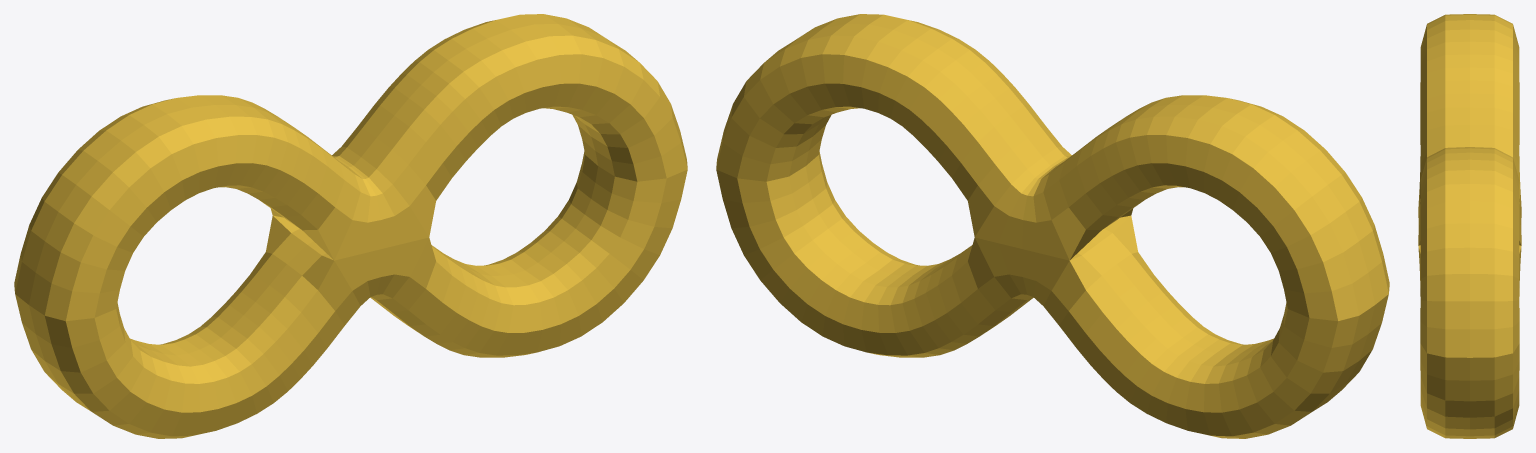
File: infinity.fbx
The picture shows the model from 3 angles, left to right: view 1: azimuth 30°, elevation 25°; view 2: azimuth 150°, elevation 25°; view 3: azimuth 270°, elevation 25°; orthographic projection. The views are drawn at different scales.
Parts seen in each view (by area): view 1: Cube; view 2: Cube; view 3: Cube.
Boxes of the visible parts, x1=… form: Cube: x1=14, y1=14, x2=687, y2=438; Cube: x1=716, y1=14, x2=1389, y2=438; Cube: x1=1418, y1=14, x2=1521, y2=438.
Size of the model in its own units: 604 by 283 by 100.
